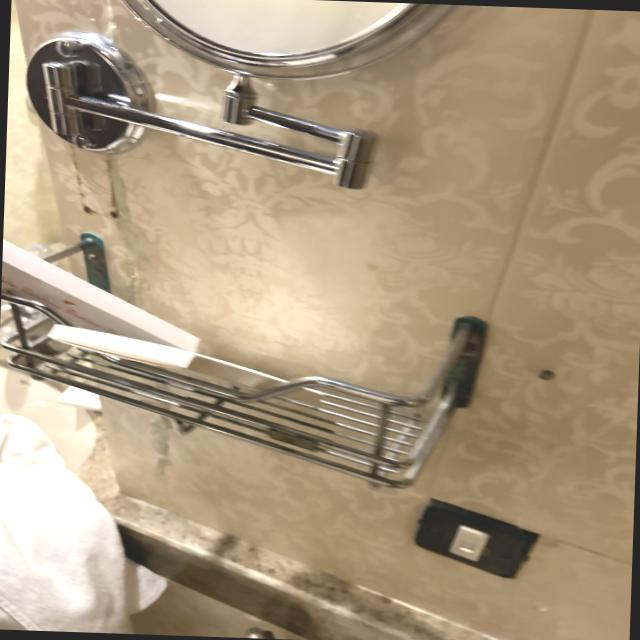mess: (0, 200, 503, 488)
